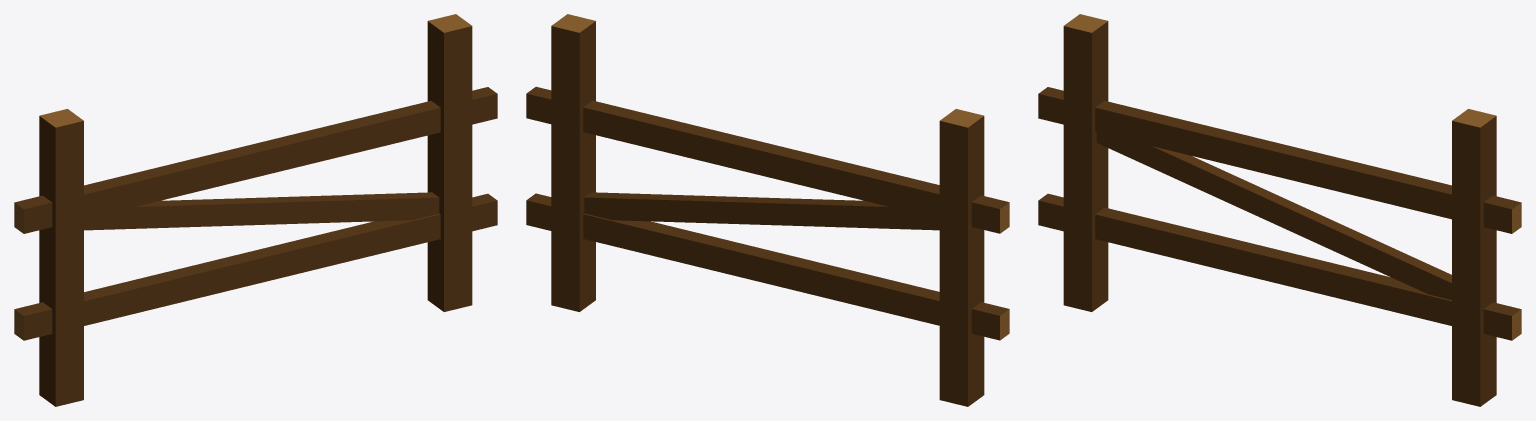
The model's file is FarmFence_03.fbx.
3 views of the same model, side by side, from view 1: azimuth 30°, elevation 25°; view 2: azimuth 150°, elevation 25°; view 3: azimuth 330°, elevation 25° (orthographic).
Visible parts, largest first — view 1: FarmFence_03; view 2: FarmFence_03; view 3: FarmFence_03.
Boxes of the visible parts, bbox=[...] form: FarmFence_03: bbox=[14, 14, 497, 406]; FarmFence_03: bbox=[526, 14, 1009, 406]; FarmFence_03: bbox=[1038, 14, 1521, 406].
Bounding box in the file's own units: 0.3333 × 0.1878 × 0.02.
